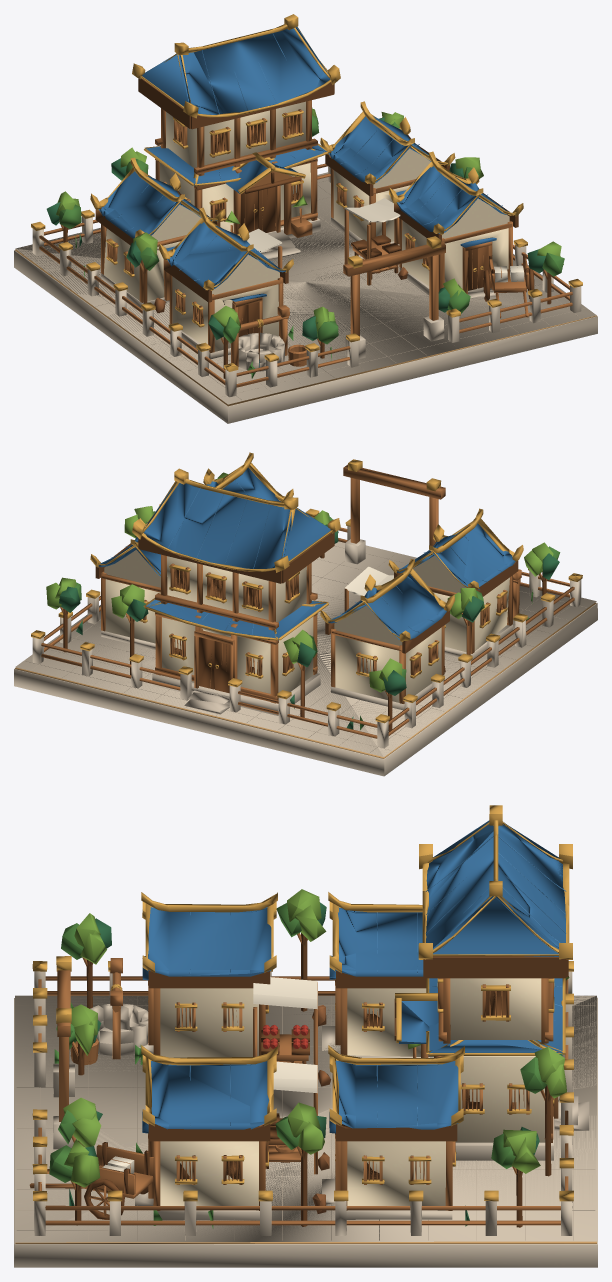
The model's file is city-3-lod2-844e6585e2bf.glb.
The picture shows the model from 3 angles, top to bottom: view 1: azimuth 30°, elevation 25°; view 2: azimuth 150°, elevation 25°; view 3: azimuth 270°, elevation 25°; orthographic projection. The views are drawn at different scales.
Parts seen in each view (by area): view 1: SM_CT3_V4_Batch_0.003, SM_CT3_V4_Batch_45.003, SM_CT3_V4_Batch_88.003, SM_CT3_V4_Batch_44.003, SM_CT3_V4_Batch_89.003, SM_CT3_V4_Batch_98.003, SM_CT3_V4_Batch_86.003, SM_CT3_V4_Batch_131.003, SM_CT3_V4_Batch_133.003, SM_CT3_V4_Batch_113.003, SM_CT3_V4_Batch_1.003, SM_CT3_V4_Batch_3.003; view 2: SM_CT3_V4_Batch_0.003, SM_CT3_V4_Batch_45.003, SM_CT3_V4_Batch_44.003, SM_CT3_V4_Batch_88.003, SM_CT3_V4_Batch_89.003, SM_CT3_V4_Batch_98.003, SM_CT3_V4_Batch_86.003, SM_CT3_V4_Batch_133.003, SM_CT3_V4_Batch_1.003, SM_CT3_V4_Batch_3.003, SM_CT3_V4_Batch_113.003, SM_CT3_V4_Batch_46.003; view 3: SM_CT3_V4_Batch_0.003, SM_CT3_V4_Batch_45.003, SM_CT3_V4_Batch_44.003, SM_CT3_V4_Batch_88.003, SM_CT3_V4_Batch_89.003, SM_CT3_V4_Batch_98.003, SM_CT3_V4_Batch_86.003, SM_CT3_V4_Batch_131.003, SM_CT3_V4_Batch_113.003, SM_CT3_V4_Batch_3.003, SM_CT3_V4_Batch_1.003, SM_CT3_V4_Batch_133.003 (+3 smaller).
Part boxes in pixels (box(x1,y1,x2,y2)): SM_CT3_V4_Batch_0.003: box(14, 166, 597, 423); SM_CT3_V4_Batch_45.003: box(98, 27, 512, 301); SM_CT3_V4_Batch_88.003: box(39, 100, 572, 387); SM_CT3_V4_Batch_44.003: box(104, 101, 509, 351); SM_CT3_V4_Batch_89.003: box(31, 14, 582, 371); SM_CT3_V4_Batch_98.003: box(63, 78, 551, 378); SM_CT3_V4_Batch_86.003: box(56, 107, 563, 332); SM_CT3_V4_Batch_131.003: box(59, 115, 564, 378); SM_CT3_V4_Batch_133.003: box(46, 117, 545, 340); SM_CT3_V4_Batch_113.003: box(247, 198, 524, 282); SM_CT3_V4_Batch_1.003: box(15, 249, 596, 406); SM_CT3_V4_Batch_3.003: box(25, 180, 584, 399); SM_CT3_V4_Batch_0.003: box(14, 526, 597, 776); SM_CT3_V4_Batch_45.003: box(98, 467, 515, 640); SM_CT3_V4_Batch_44.003: box(104, 550, 509, 702); SM_CT3_V4_Batch_88.003: box(41, 464, 574, 738); SM_CT3_V4_Batch_89.003: box(31, 452, 582, 723); SM_CT3_V4_Batch_98.003: box(63, 533, 546, 731); SM_CT3_V4_Batch_86.003: box(46, 472, 553, 692); SM_CT3_V4_Batch_133.003: box(59, 521, 559, 729); SM_CT3_V4_Batch_1.003: box(15, 602, 596, 758); SM_CT3_V4_Batch_3.003: box(26, 546, 586, 752); SM_CT3_V4_Batch_113.003: box(345, 566, 393, 595); SM_CT3_V4_Batch_46.003: box(111, 480, 502, 634); SM_CT3_V4_Batch_0.003: box(14, 971, 597, 1267); SM_CT3_V4_Batch_45.003: box(142, 820, 565, 1133); SM_CT3_V4_Batch_44.003: box(160, 978, 545, 1210); SM_CT3_V4_Batch_88.003: box(29, 933, 568, 1225); SM_CT3_V4_Batch_89.003: box(32, 805, 573, 1201); SM_CT3_V4_Batch_98.003: box(70, 933, 568, 1227); SM_CT3_V4_Batch_86.003: box(63, 889, 569, 1187); SM_CT3_V4_Batch_131.003: box(49, 903, 546, 1228); SM_CT3_V4_Batch_113.003: box(102, 977, 317, 1173); SM_CT3_V4_Batch_3.003: box(17, 996, 594, 1240); SM_CT3_V4_Batch_1.003: box(15, 1241, 596, 1243); SM_CT3_V4_Batch_133.003: box(69, 902, 562, 1226).
Size of the model in its own units: 9.99 by 5.66 by 9.99.
16 materials, 4 textured.
